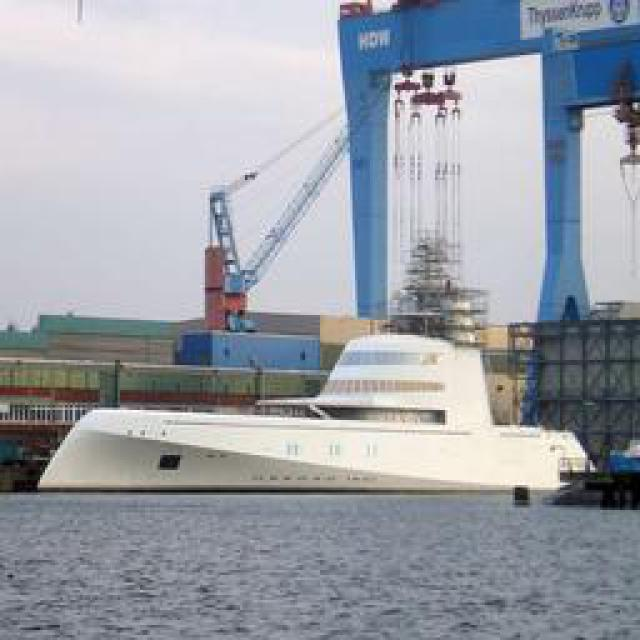Ship: (42, 326, 600, 496)
